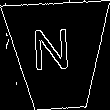N_S: (37, 29, 79, 82)
